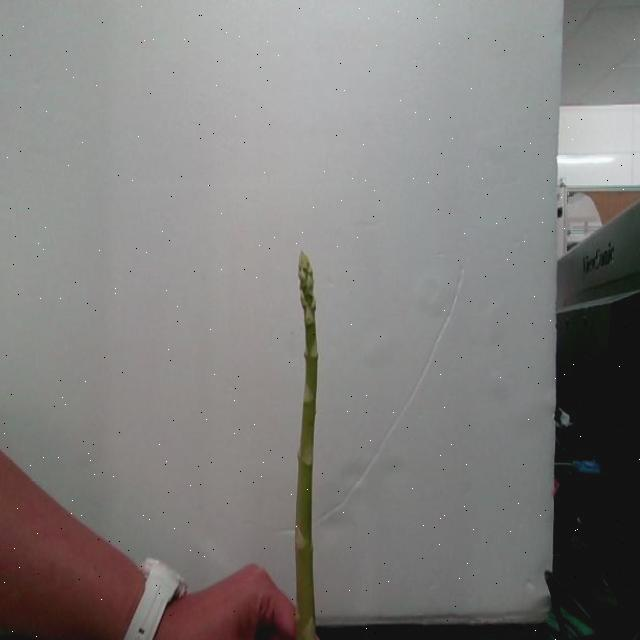aspargus: (293, 254, 318, 640)
